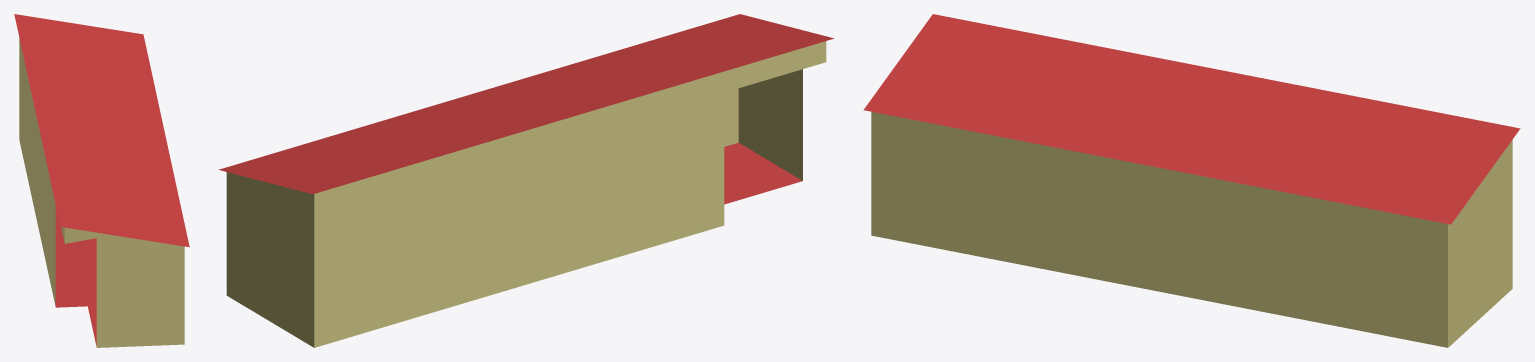
The picture shows the model from 3 angles, left to right: view 1: azimuth 30°, elevation 25°; view 2: azimuth 150°, elevation 25°; view 3: azimuth 270°, elevation 25°; orthographic projection. The views are drawn at different scales.
Size of the model in its own units: 17.35 by 27.05 by 7.23.
